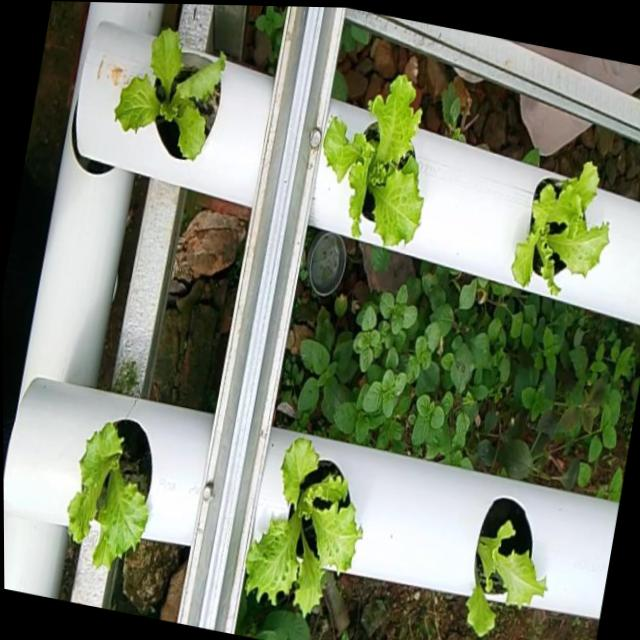Baby: (244, 440, 361, 620), (321, 78, 421, 249), (112, 33, 224, 165), (508, 162, 605, 296), (67, 422, 151, 571), (465, 495, 544, 634)
